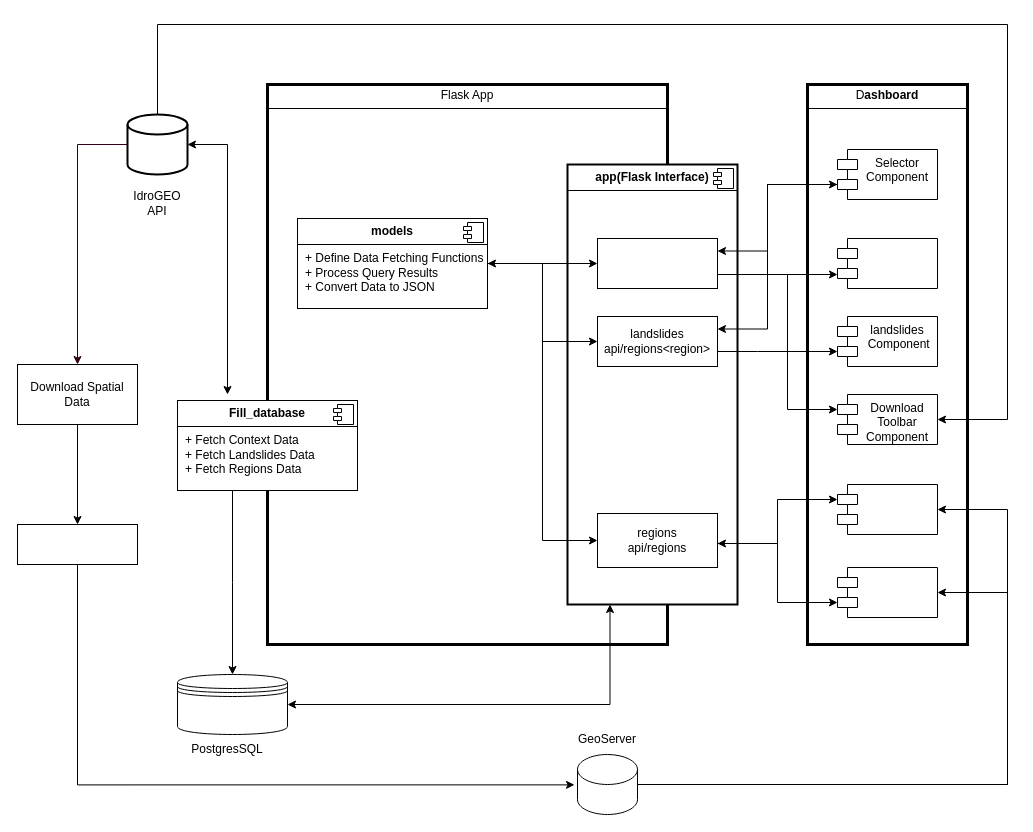
Image size: 1033x832. Some labels were removed from this diagram. The shapes that lost their labels are listed below. From the top down, each one's centre as x and y in pixels, then its label:
the point at 657,263: context api/regions<region>
the point at 887,263: context Component
the point at 887,509: Map Component
the point at 77,544: QGIS
the point at 887,592: Layer Management Component
